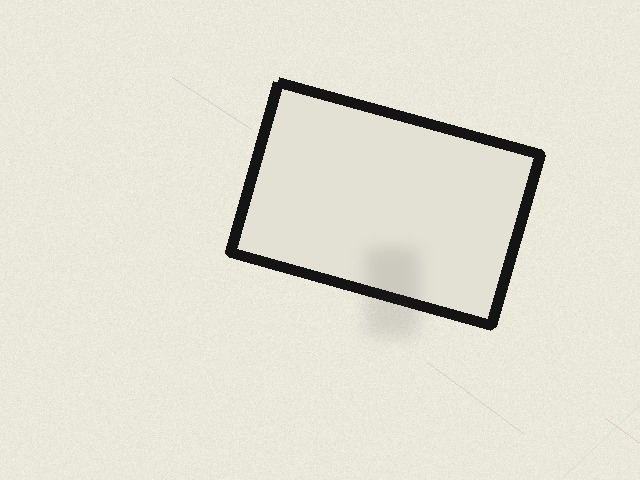parking_area: (230, 82, 540, 325)
